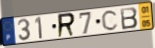1: (34, 16, 44, 40)
3: (17, 18, 33, 42)
7: (78, 12, 93, 35)
B: (120, 6, 139, 30)
C: (101, 9, 120, 32)
R: (57, 12, 77, 39)
